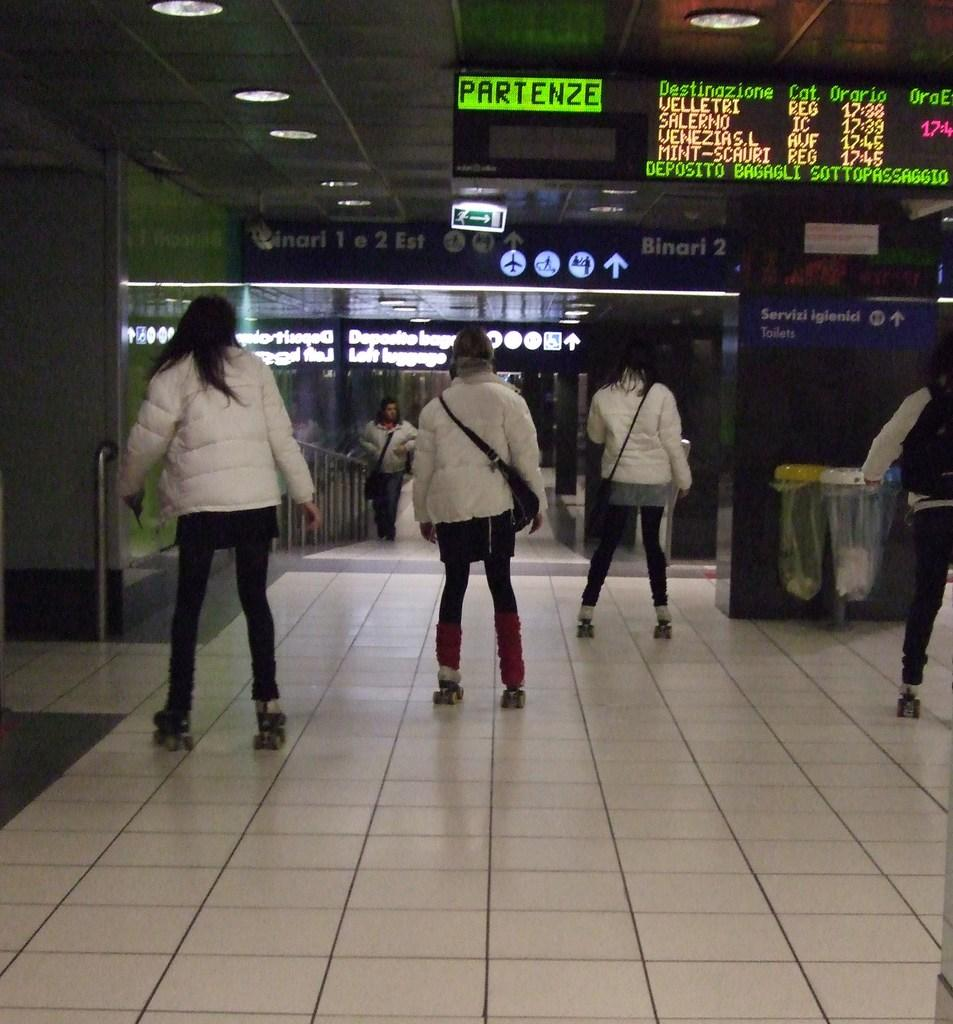Luggage-and-bags: (433, 388, 541, 529), (595, 383, 661, 518), (899, 378, 952, 499), (369, 428, 397, 504)
